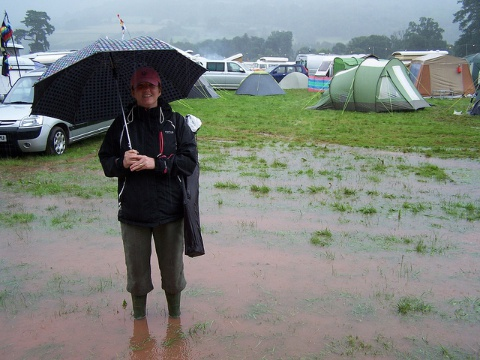hand: (130, 154, 153, 172)
